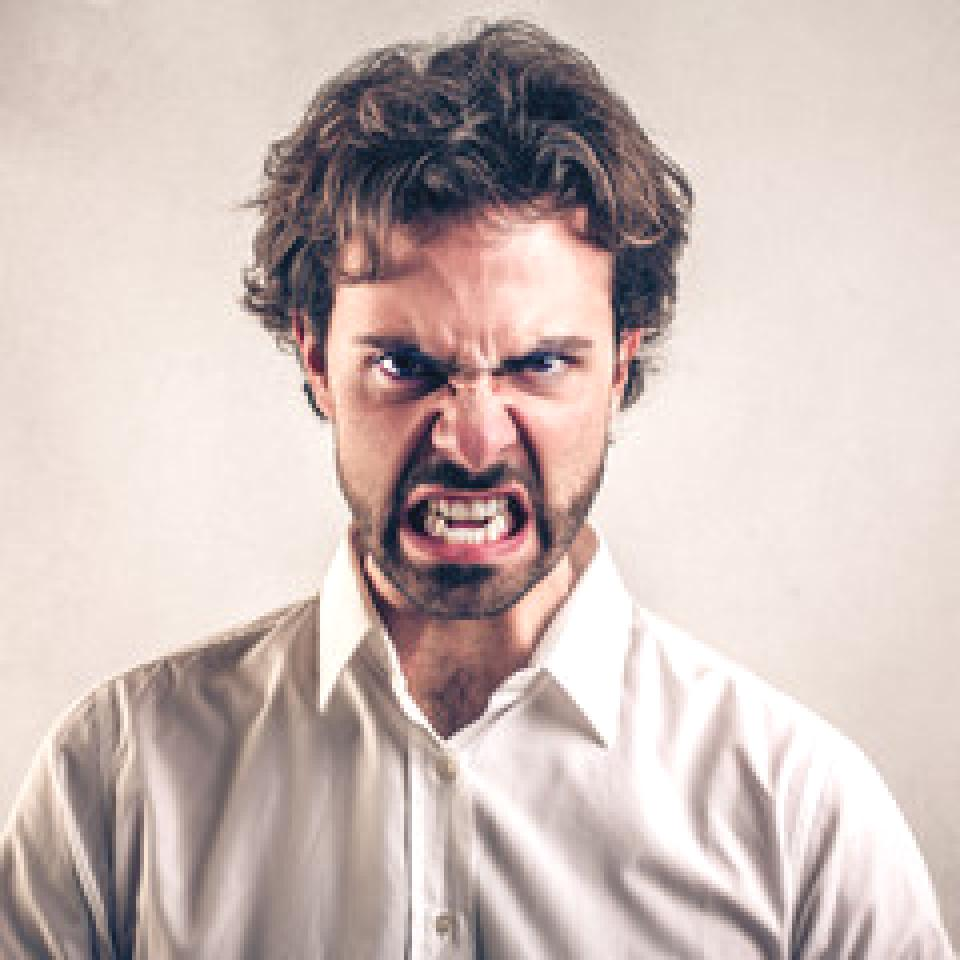Anger: (316, 206, 622, 618)
